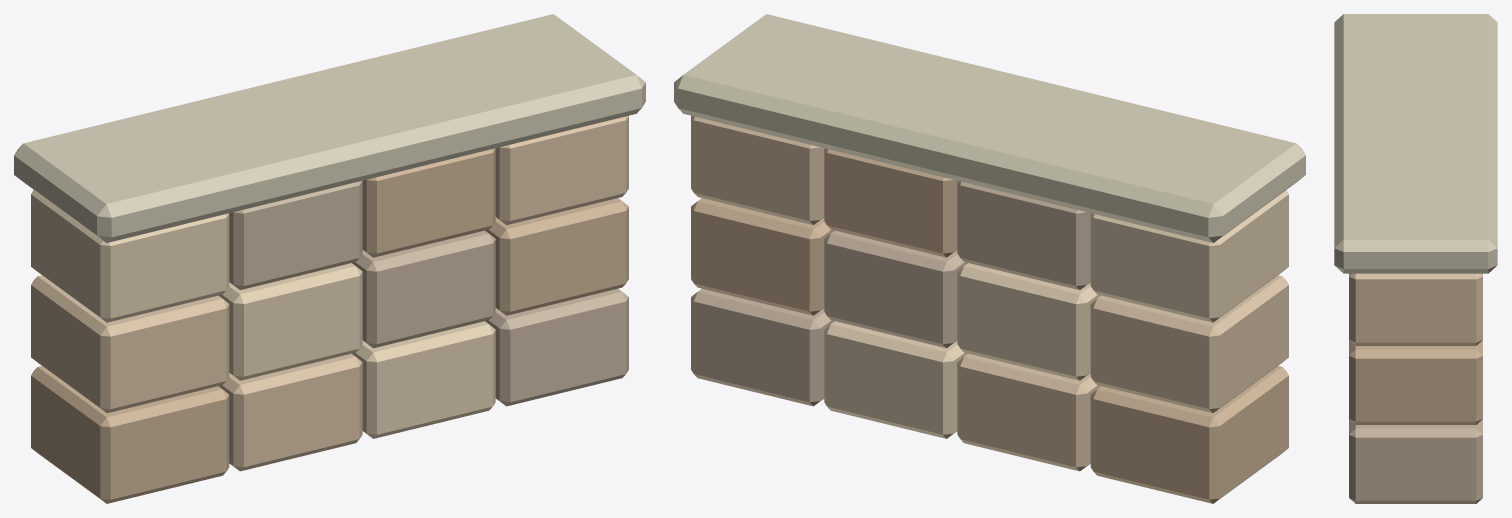
File: Wall_2m.fbx
The picture shows the model from 3 angles, left to right: view 1: azimuth 30°, elevation 25°; view 2: azimuth 150°, elevation 25°; view 3: azimuth 270°, elevation 25°; orthographic projection. The views are drawn at different scales.
Parts seen in each view (by area): view 1: Wall_2m; view 2: Wall_2m; view 3: Wall_2m.
Part boxes in pixels (left/top/right/bottom): Wall_2m: left=14, top=14, right=645, bottom=503; Wall_2m: left=674, top=14, right=1305, bottom=503; Wall_2m: left=1334, top=14, right=1497, bottom=503.
Size of the model in its own units: 206 by 110 by 61.
